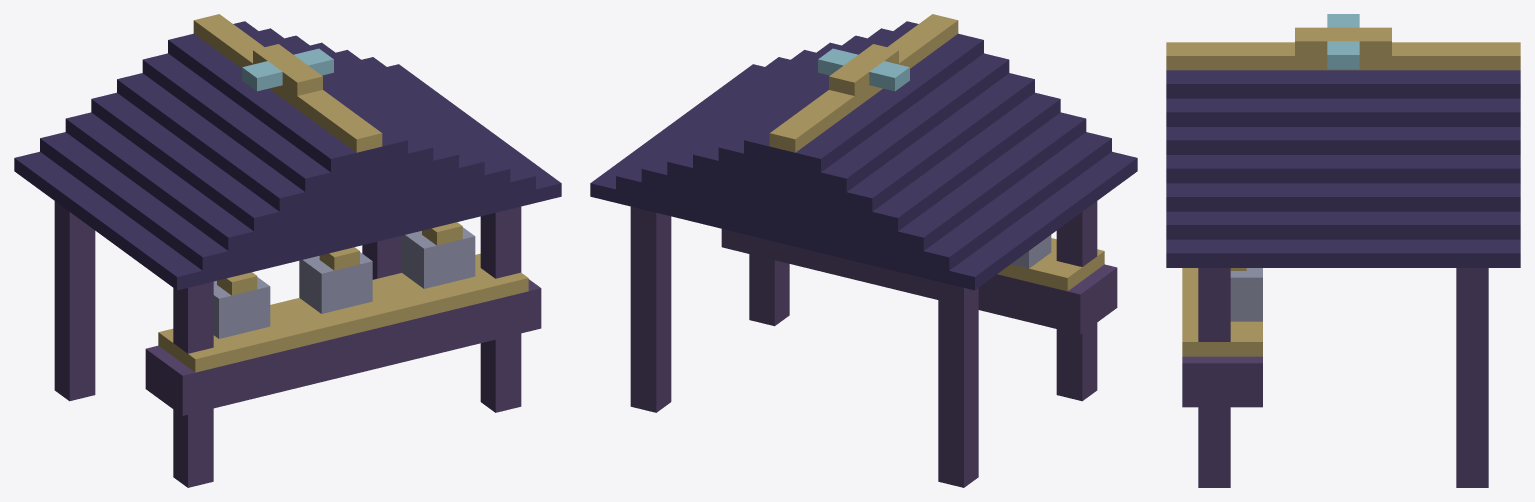
File: market.glb
3 renders of one model, left to right at view 1: azimuth 30°, elevation 25°; view 2: azimuth 150°, elevation 25°; view 3: azimuth 270°, elevation 25°, orthographic. The views are drawn at different scales.
Visible parts, largest first — view 1: Shell; view 2: Shell; view 3: Shell.
Part boxes in pixels (<box>): Shell: <box>14,14,561,487</box>; Shell: <box>590,14,1137,487</box>; Shell: <box>1166,14,1520,487</box>.
Size of the model in its own units: 3.75 by 3.12 by 2.75.
